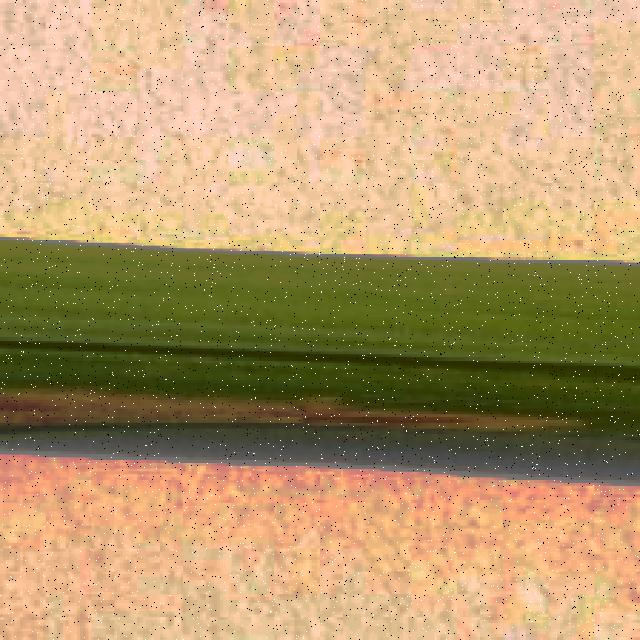unhealth: (1, 236, 640, 446)
